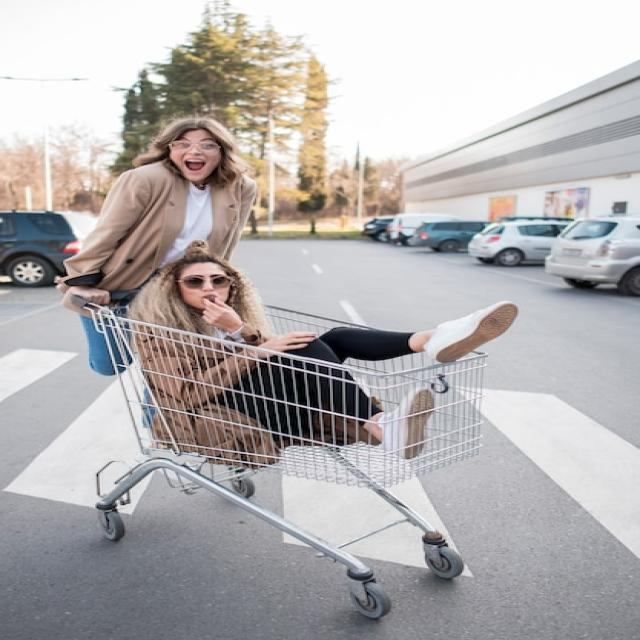Person: (126, 240, 518, 467), (54, 117, 261, 375)
